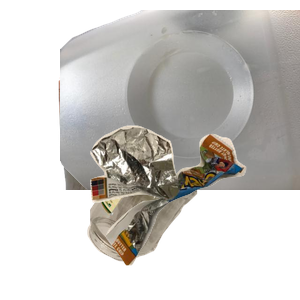glass: (85, 141, 275, 300)
metal: (56, 52, 242, 232)
plastic: (60, 10, 300, 190)
trash: (88, 123, 300, 300)
